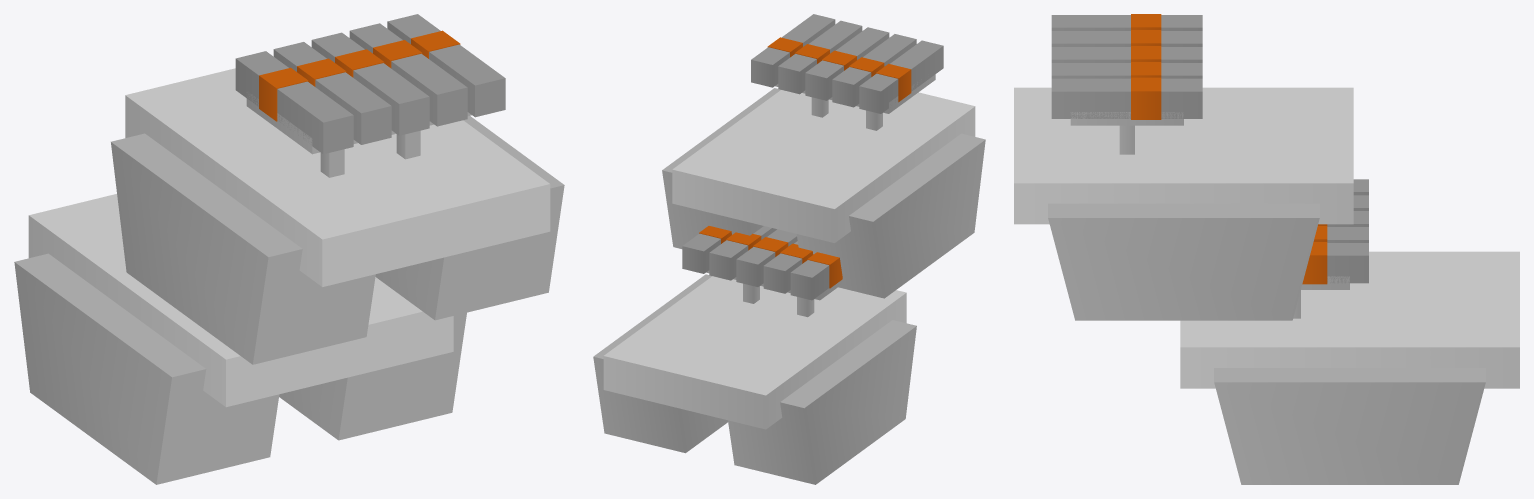
The model's file is tank-launcher.glb.
3 renders of one model, left to right at view 1: azimuth 30°, elevation 25°; view 2: azimuth 150°, elevation 25°; view 3: azimuth 270°, elevation 25°, orthographic. The views are drawn at different scales.
Visible parts, largest first — view 1: muzzle, mesh0; view 2: muzzle, mesh0; view 3: muzzle, mesh0.
Boxes of the visible parts, <box> form: muzzle: <box>111,14,564,364</box>; mesh0: <box>14,194,466,484</box>; muzzle: <box>662,14,985,298</box>; mesh0: <box>593,226,916,484</box>; muzzle: <box>1014,14,1353,320</box>; mesh0: <box>1180,179,1519,484</box>.
Bounding box in the file's own units: 0.39 × 0.541 × 0.67.
